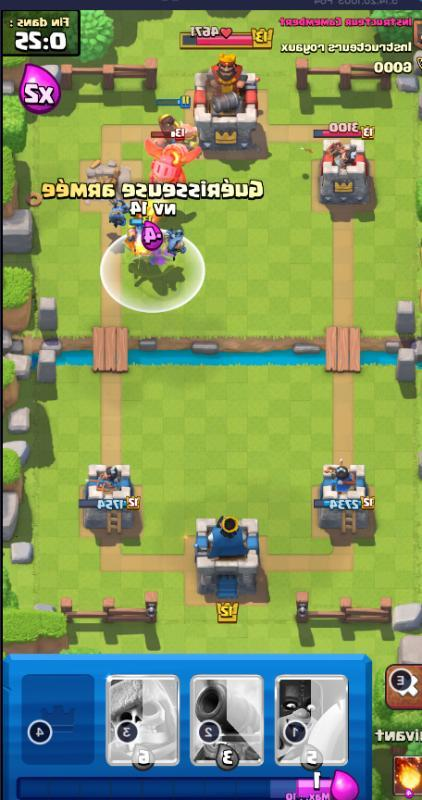enemy_inferno_dragon: (146, 126, 203, 185)
player_hog_rider: (155, 113, 198, 142)
player_minions: (161, 224, 190, 259), (104, 197, 132, 226)
